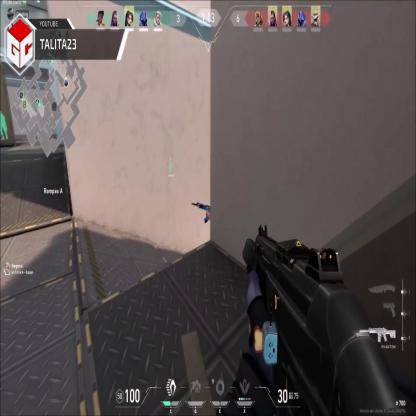enemy: (192, 186, 232, 287)
enemy_head: (218, 190, 231, 210)
